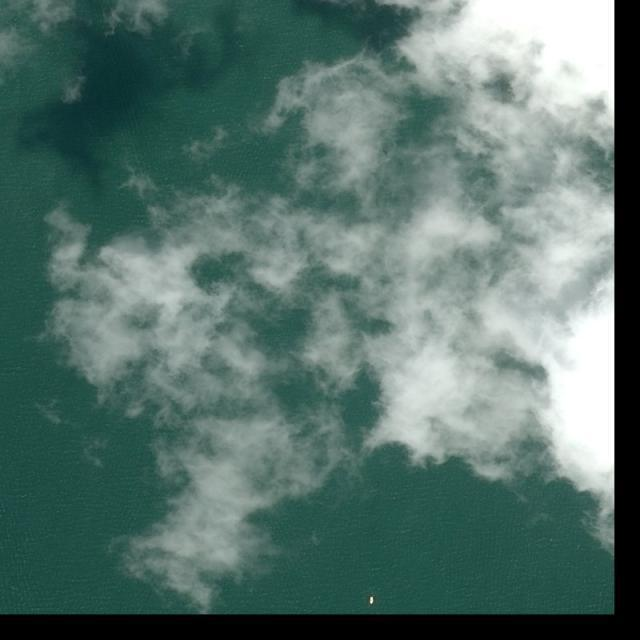ship: (370, 597, 374, 605)
